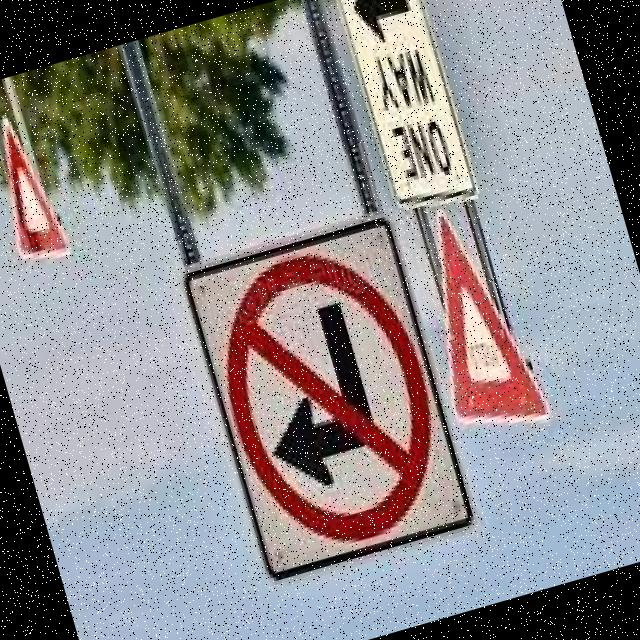do_not_turn_right: (195, 232, 467, 569)
